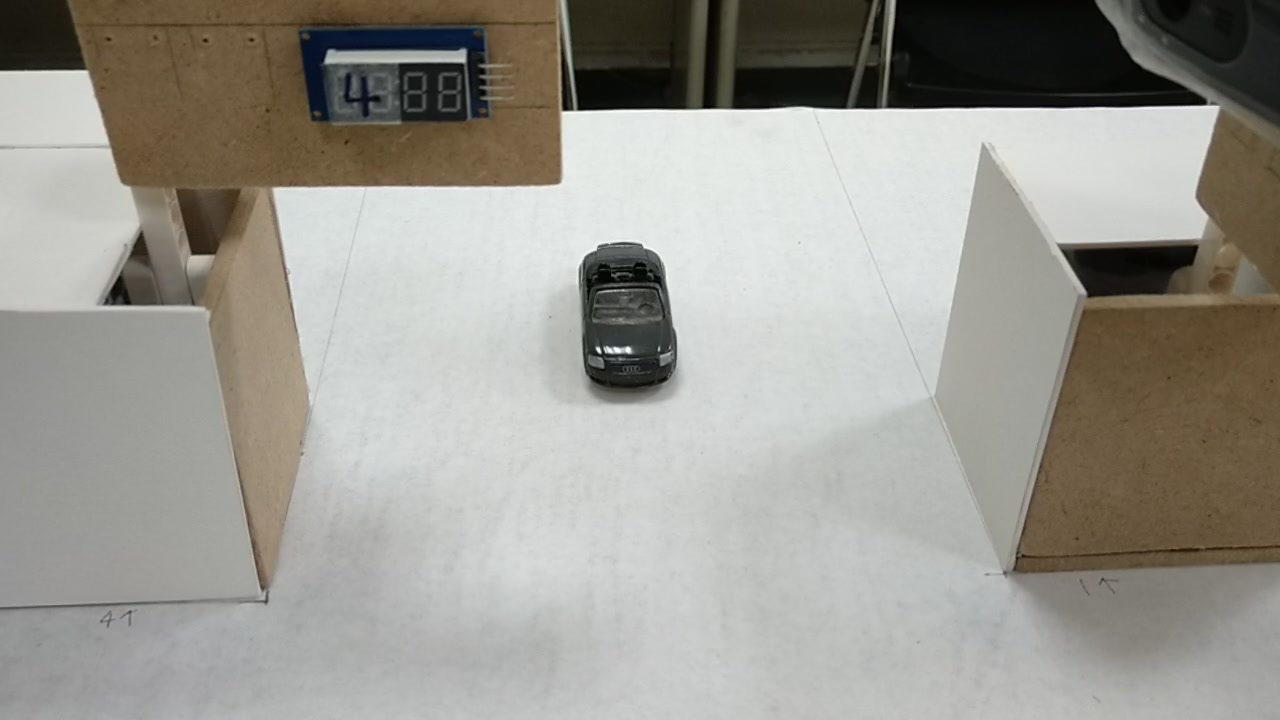car: (581, 242, 680, 384)
